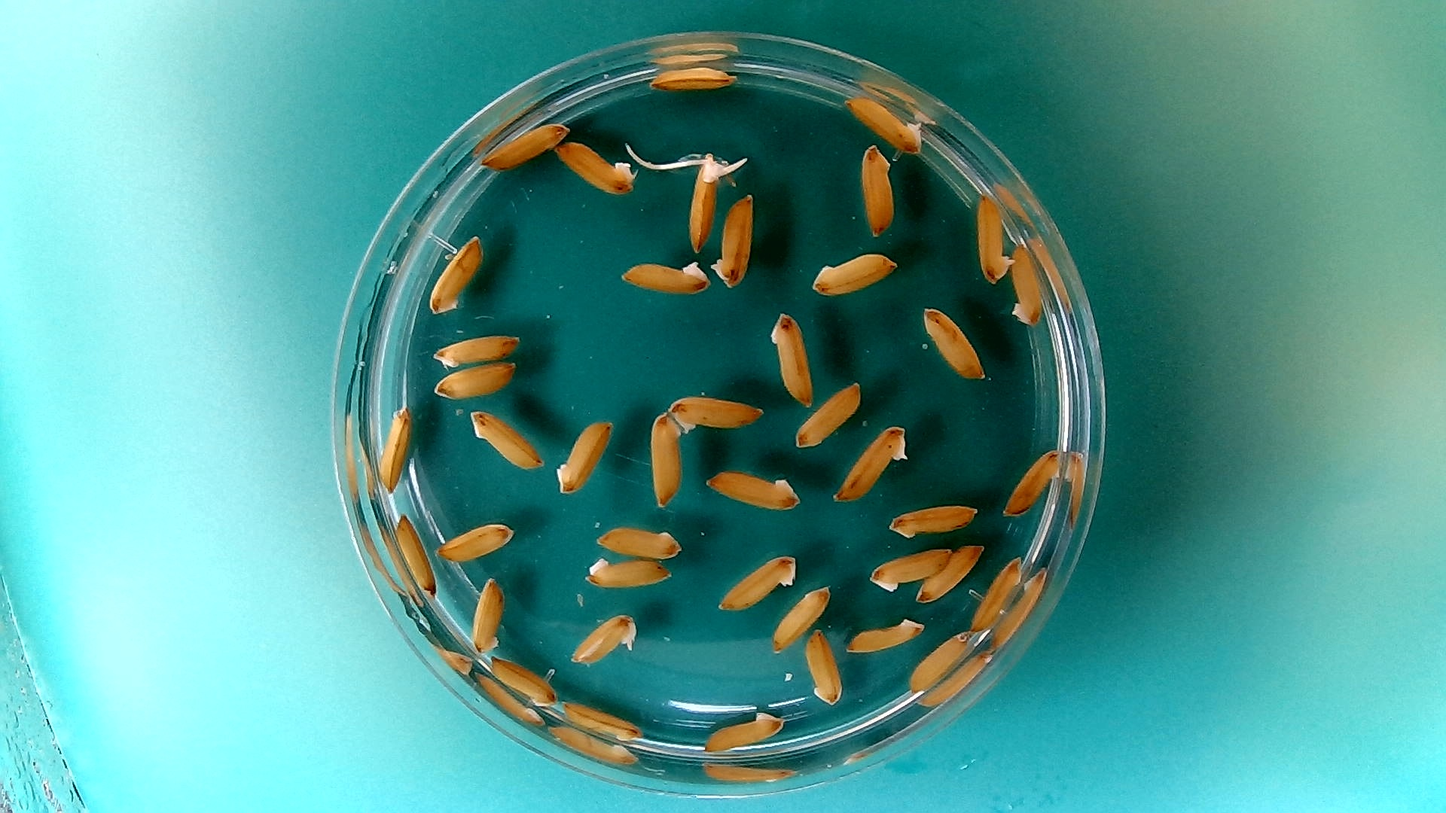no: (831, 420, 908, 504), (839, 88, 928, 155), (712, 550, 800, 614), (552, 137, 640, 197), (920, 303, 987, 381), (468, 406, 546, 472), (478, 116, 571, 171), (425, 232, 485, 317), (554, 414, 615, 497), (792, 378, 862, 449), (708, 188, 757, 289), (1001, 443, 1065, 519), (769, 309, 816, 409), (665, 390, 767, 436), (702, 465, 801, 512), (916, 541, 985, 604), (770, 582, 831, 653), (908, 629, 975, 693), (809, 248, 899, 295), (486, 651, 560, 708), (429, 328, 522, 372), (969, 555, 1022, 632), (701, 708, 786, 756), (615, 256, 710, 298), (558, 697, 646, 742), (393, 510, 438, 598), (431, 358, 520, 401), (868, 546, 949, 593), (581, 552, 676, 592), (432, 519, 516, 564), (374, 402, 414, 496), (647, 409, 684, 510), (859, 141, 896, 236), (844, 615, 927, 656), (1008, 241, 1047, 327), (468, 573, 507, 658), (594, 522, 683, 559), (803, 626, 843, 707), (647, 62, 739, 94)
yes: (973, 188, 1017, 285), (688, 151, 729, 254), (566, 610, 639, 667)
